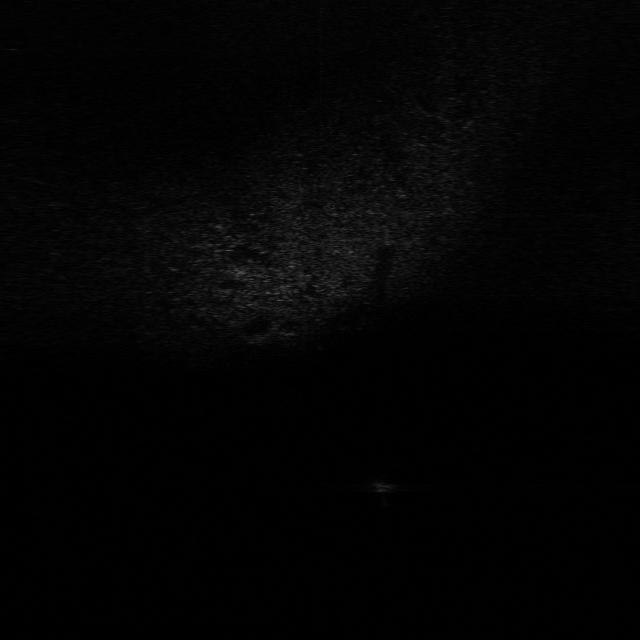cylinder: (367, 474, 402, 496)
